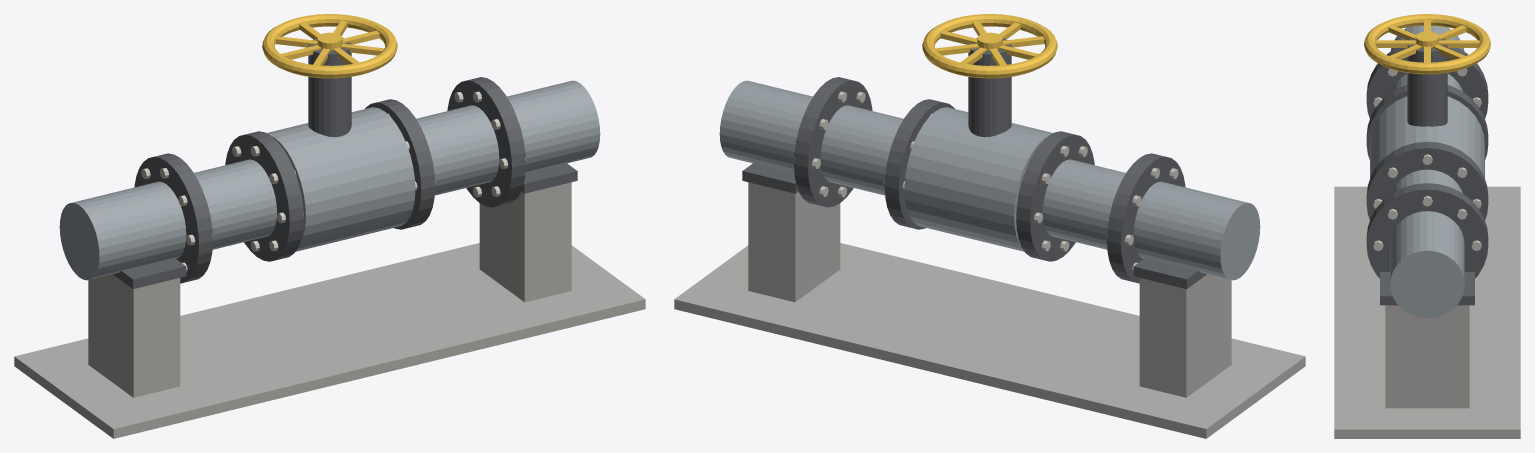
The model's file is pipe-valve.glb.
The picture shows the model from 3 angles, left to right: view 1: azimuth 30°, elevation 25°; view 2: azimuth 150°, elevation 25°; view 3: azimuth 270°, elevation 25°; orthographic projection. The views are drawn at different scales.
Visible parts, largest first — view 1: geometry_50, geometry_0, geometry_37, geometry_46, geometry_48, geometry_19, geometry_10, geometry_1, geometry_40, geometry_38, geometry_28, geometry_47 (+3 smaller); view 2: geometry_50, geometry_0, geometry_37, geometry_46, geometry_48, geometry_19, geometry_10, geometry_1, geometry_40, geometry_38, geometry_28, geometry_47 (+3 smaller); view 3: geometry_50, geometry_0, geometry_48, geometry_10, geometry_37, geometry_28, geometry_40, geometry_38, geometry_1, geometry_19, geometry_49, geometry_44 (+4 smaller).
Boxes of the visible parts, x1,y1,x2,y2 form: geometry_50: [14, 243, 645, 438]; geometry_0: [59, 80, 600, 280]; geometry_37: [266, 107, 415, 251]; geometry_46: [88, 274, 180, 397]; geometry_48: [479, 182, 571, 302]; geometry_19: [225, 131, 303, 261]; geometry_10: [447, 77, 525, 207]; geometry_1: [134, 153, 212, 283]; geometry_40: [262, 14, 397, 78]; geometry_38: [308, 38, 351, 137]; geometry_28: [365, 99, 435, 229]; geometry_47: [113, 258, 186, 288]; geometry_50: [674, 243, 1305, 438]; geometry_0: [719, 80, 1260, 280]; geometry_37: [904, 107, 1053, 251]; geometry_46: [1139, 274, 1231, 397]; geometry_48: [748, 182, 840, 302]; geometry_19: [1016, 131, 1094, 261]; geometry_10: [794, 77, 872, 207]; geometry_1: [1107, 153, 1185, 283]; geometry_40: [922, 14, 1057, 78]; geometry_38: [968, 38, 1011, 137]; geometry_28: [884, 99, 954, 229]; geometry_47: [1133, 258, 1206, 288]; geometry_50: [1334, 186, 1520, 438]; geometry_0: [1390, 26, 1464, 318]; geometry_48: [1385, 305, 1469, 408]; geometry_10: [1366, 183, 1488, 278]; geometry_37: [1370, 96, 1484, 178]; geometry_28: [1366, 141, 1488, 219]; geometry_40: [1364, 14, 1490, 74]; geometry_38: [1407, 38, 1447, 126]; geometry_1: [1366, 48, 1488, 118]; geometry_19: [1366, 85, 1488, 159]; geometry_49: [1380, 272, 1474, 305]; geometry_44: [1375, 40, 1479, 47].
Size of the model in its own units: 3.4 by 1.83 by 1.1.
